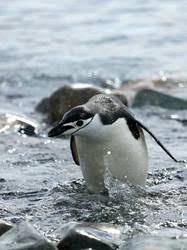chinstrap: (40, 80, 187, 217)
